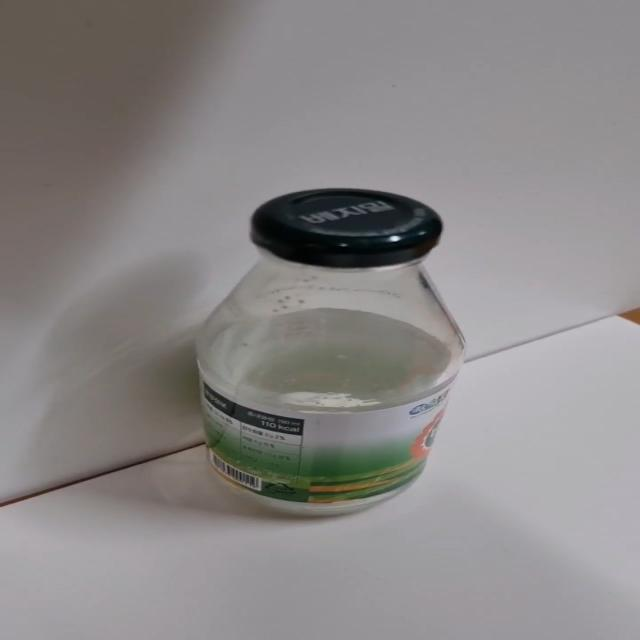Glass: (193, 188, 468, 520)
